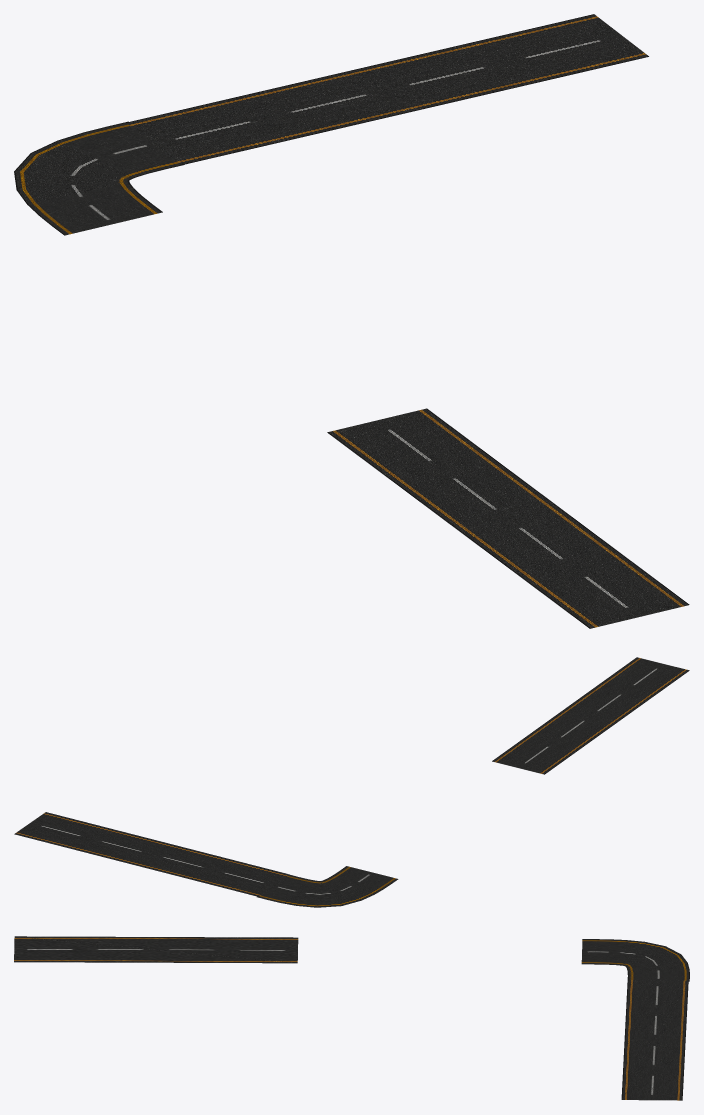
Rendered from road.glb.
The picture shows the model from 3 angles, top to bottom: view 1: azimuth 30°, elevation 25°; view 2: azimuth 150°, elevation 25°; view 3: azimuth 270°, elevation 25°; orthographic projection. The views are drawn at different scales.
Parts seen in each view (by area): view 1: Tube 4.001, Tube 4.002, Tube 1; view 2: Tube 4.001, Tube 4.002, Tube 1; view 3: Tube 4.002, Tube 4.001, Tube 1.
Part boxes in pixels (left/top/right/bottom): Tube 4.001: left=126, top=14, right=648, bottom=165; Tube 4.002: left=327, top=408, right=689, bottom=628; Tube 1: left=14, top=121, right=184, bottom=235; Tube 4.001: left=14, top=812, right=289, bottom=896; Tube 4.002: left=492, top=657, right=689, bottom=774; Tube 1: left=257, top=866, right=398, bottom=907; Tube 4.002: left=14, top=936, right=298, bottom=963; Tube 4.001: left=621, top=980, right=688, bottom=1100; Tube 1: left=581, top=939, right=689, bottom=981.
Size of the model in its own units: 2.66 by 0.00156 by 4.62.
Materials: 4 (4 with a texture image).
